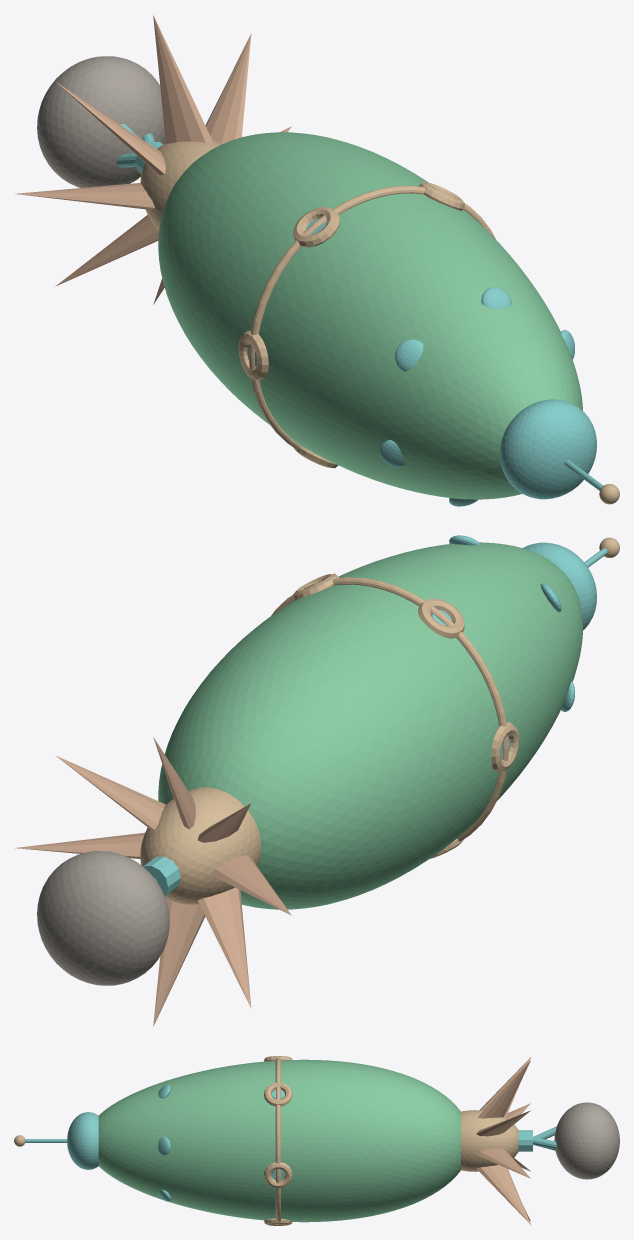
File: navis.glb
3 views of the same model, one above another, from view 1: azimuth 30°, elevation 25°; view 2: azimuth 150°, elevation 25°; view 3: azimuth 270°, elevation 25° (orthographic). The views are drawn at different scales.
Parts seen in each view (by area): view 1: hull_0, resource_anchor_34, phototropic_cap_14, radiator_petal_2_27, dock_ridge_1, caudal_seed_organ_24, radiator_petal_1_26, radiator_petal_4_29, radiator_petal_5_30, radiator_petal_3_28, dock_2_6, dock_3_8 (+1 smaller); view 2: hull_0, resource_anchor_34, caudal_seed_organ_24, dock_ridge_1, radiator_petal_5_30, radiator_petal_6_31, phototropic_cap_14, radiator_petal_1_26, radiator_petal_4_29, radiator_petal_0_25, radiator_petal_2_27, dock_2_6 (+3 smaller); view 3: hull_0, resource_anchor_34, caudal_seed_organ_24, phototropic_cap_14, radiator_petal_7_32, dock_ridge_1, radiator_petal_2_27, radiator_petal_0_25, dock_0_2, dock_1_4, radiator_petal_1_26, mining_root_33 (+1 smaller).
Boxes of the visible parts, left/top/right/bottom form: hull_0: left=158, top=132, right=582, bottom=499; resource_anchor_34: left=37, top=56, right=165, bottom=187; phototropic_cap_14: left=500, top=399, right=596, bottom=499; radiator_petal_2_27: left=153, top=14, right=213, bottom=143; dock_ridge_1: left=248, top=186, right=495, bottom=450; caudal_seed_organ_24: left=140, top=140, right=221, bottom=229; radiator_petal_1_26: left=205, top=34, right=251, bottom=143; radiator_petal_4_29: left=15, top=183, right=154, bottom=209; radiator_petal_5_30: left=55, top=215, right=159, bottom=286; radiator_petal_3_28: left=56, top=82, right=165, bottom=174; dock_2_6: left=293, top=207, right=339, bottom=247; dock_3_8: left=238, top=330, right=268, bottom=380; hull_0: left=158, top=542, right=582, bottom=909; resource_anchor_34: left=37, top=851, right=169, bottom=985; caudal_seed_organ_24: left=140, top=787, right=261, bottom=904; dock_ridge_1: left=271, top=577, right=508, bottom=841; radiator_petal_5_30: left=197, top=887, right=251, bottom=1007; radiator_petal_6_31: left=153, top=899, right=205, bottom=1027; phototropic_cap_14: left=522, top=542, right=596, bottom=630; radiator_petal_1_26: left=55, top=755, right=165, bottom=829; radiator_petal_4_29: left=211, top=855, right=291, bottom=915; radiator_petal_0_25: left=15, top=832, right=144, bottom=858; radiator_petal_2_27: left=153, top=737, right=195, bottom=829; dock_2_6: left=418, top=598, right=464, bottom=638; hull_0: left=98, top=1059, right=460, bottom=1222; resource_anchor_34: left=554, top=1102, right=619, bottom=1179; caudal_seed_organ_24: left=461, top=1110, right=518, bottom=1171; phototropic_cap_14: left=67, top=1112, right=98, bottom=1169; radiator_petal_7_32: left=476, top=1165, right=530, bottom=1224; dock_ridge_1: left=275, top=1057, right=280, bottom=1224; radiator_petal_2_27: left=478, top=1060, right=530, bottom=1118; radiator_petal_0_25: left=476, top=1148, right=530, bottom=1178; dock_0_2: left=264, top=1162, right=292, bottom=1187; dock_1_4: left=264, top=1082, right=292, bottom=1106; radiator_petal_1_26: left=476, top=1110, right=530, bottom=1136; mining_root_33: left=518, top=1130, right=532, bottom=1151.
Bounding box in the file's own units: 0.9329 × 0.9329 × 3.14.
